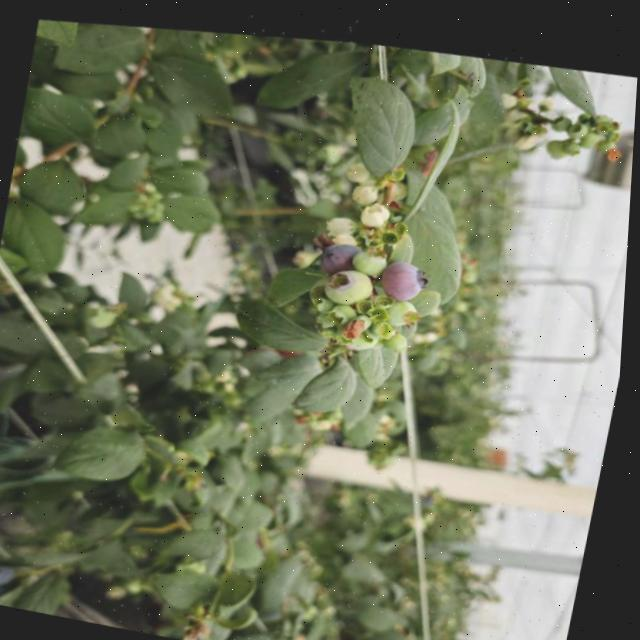Semi-RipeBlueBerry: (378, 245, 435, 299)
UnripeBlueBerry: (320, 253, 379, 304)
